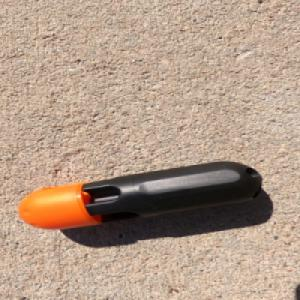PlasticPart: (15, 158, 263, 230)
